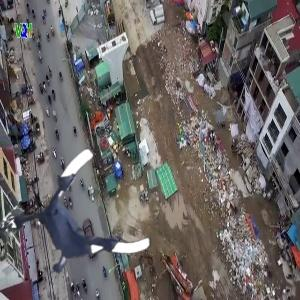drone: (20, 164, 148, 292)
